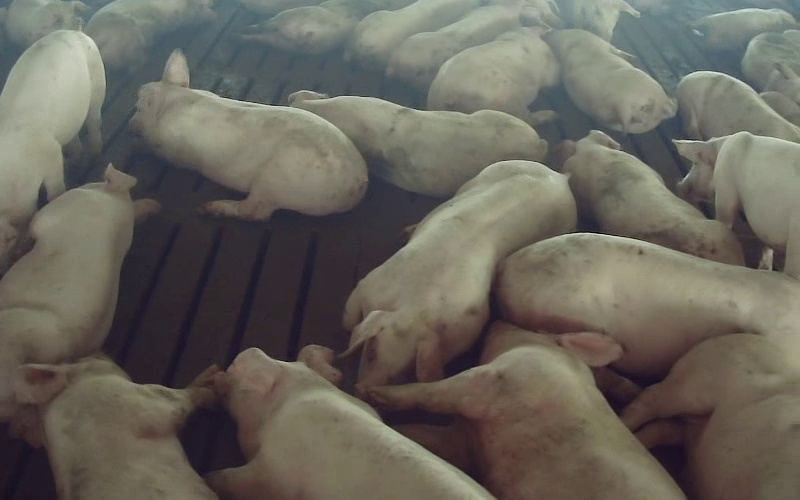pig: (369, 321, 683, 499), (344, 161, 575, 390), (208, 346, 491, 499), (495, 233, 799, 375), (0, 164, 158, 420), (131, 50, 365, 220), (11, 355, 216, 499), (624, 334, 799, 499), (289, 91, 546, 195), (0, 31, 104, 270), (560, 130, 744, 263), (675, 132, 799, 279), (545, 29, 676, 133), (427, 27, 559, 125), (386, 5, 519, 92), (84, 0, 214, 71), (676, 71, 799, 142), (5, 0, 88, 47)
